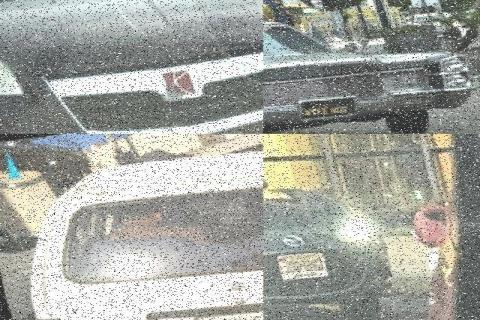LicensePlate: (267, 253, 320, 281), (188, 306, 264, 320), (291, 101, 341, 120)
